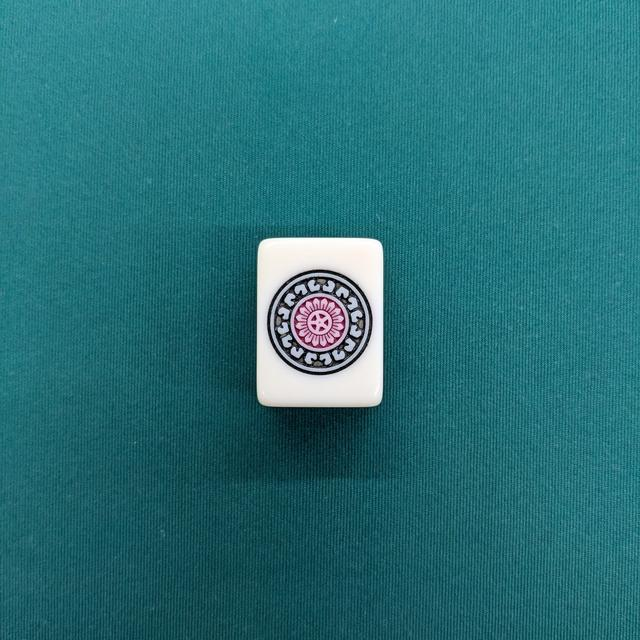1p: (255, 236, 385, 405)
